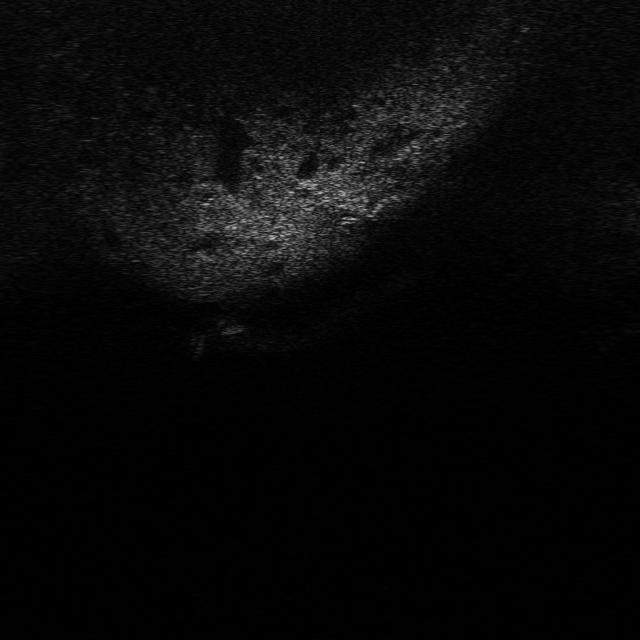cube: (208, 313, 247, 336)
cylinder: (184, 331, 206, 361)
